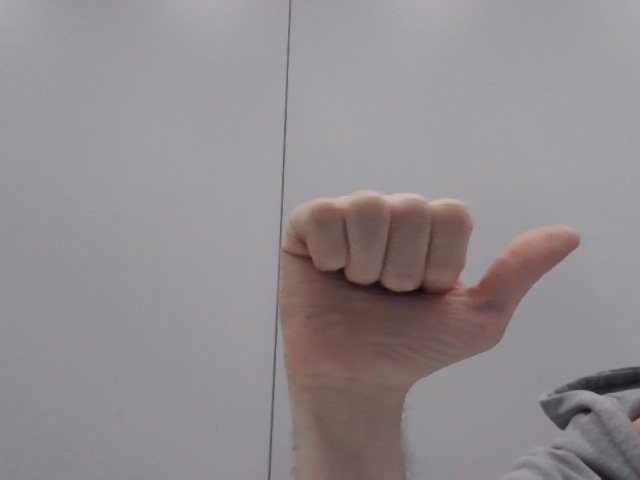left: (236, 172, 599, 400)
